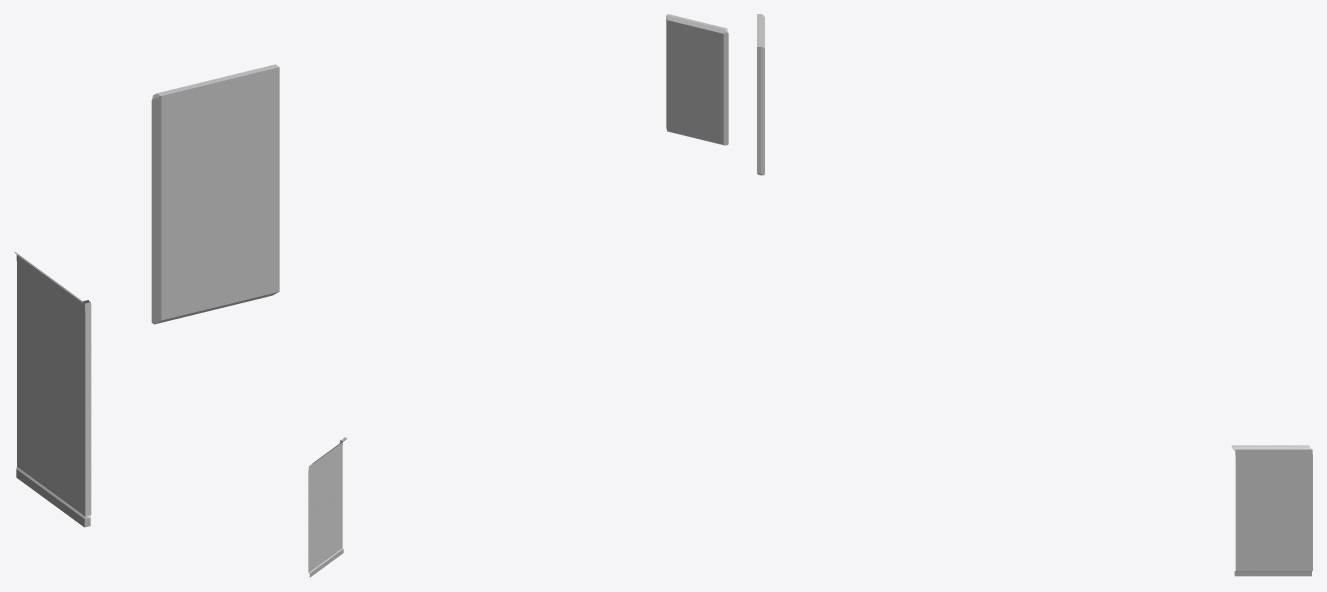
The model's file is SM_Wall_kitchen_1.fbx.
The picture shows the model from 3 angles, left to right: view 1: azimuth 30°, elevation 25°; view 2: azimuth 150°, elevation 25°; view 3: azimuth 270°, elevation 25°; orthographic projection. The views are drawn at different scales.
Visible parts, largest first — view 1: SM_Wall_kitchen_1_ConvexHulls, SM_Wall_kitchen_1; view 2: SM_Wall_kitchen_1_ConvexHulls, SM_Wall_kitchen_1; view 3: SM_Wall_kitchen_1, SM_Wall_kitchen_1_ConvexHulls.
Part boxes in pixels (box(x1,y1,x2,y2)): SM_Wall_kitchen_1_ConvexHulls: box(151, 64, 279, 324); SM_Wall_kitchen_1: box(14, 251, 91, 527); SM_Wall_kitchen_1_ConvexHulls: box(666, 14, 728, 145); SM_Wall_kitchen_1: box(308, 437, 346, 577); SM_Wall_kitchen_1: box(1231, 445, 1312, 576); SM_Wall_kitchen_1_ConvexHulls: box(757, 14, 764, 175).
Size of the model in its own units: 738 by 1749 by 1620.
